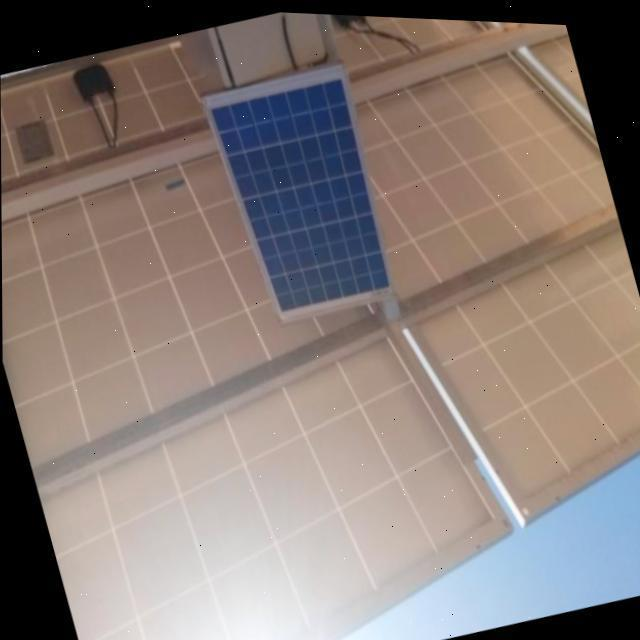Normal Solar Panel: (202, 57, 406, 330)
